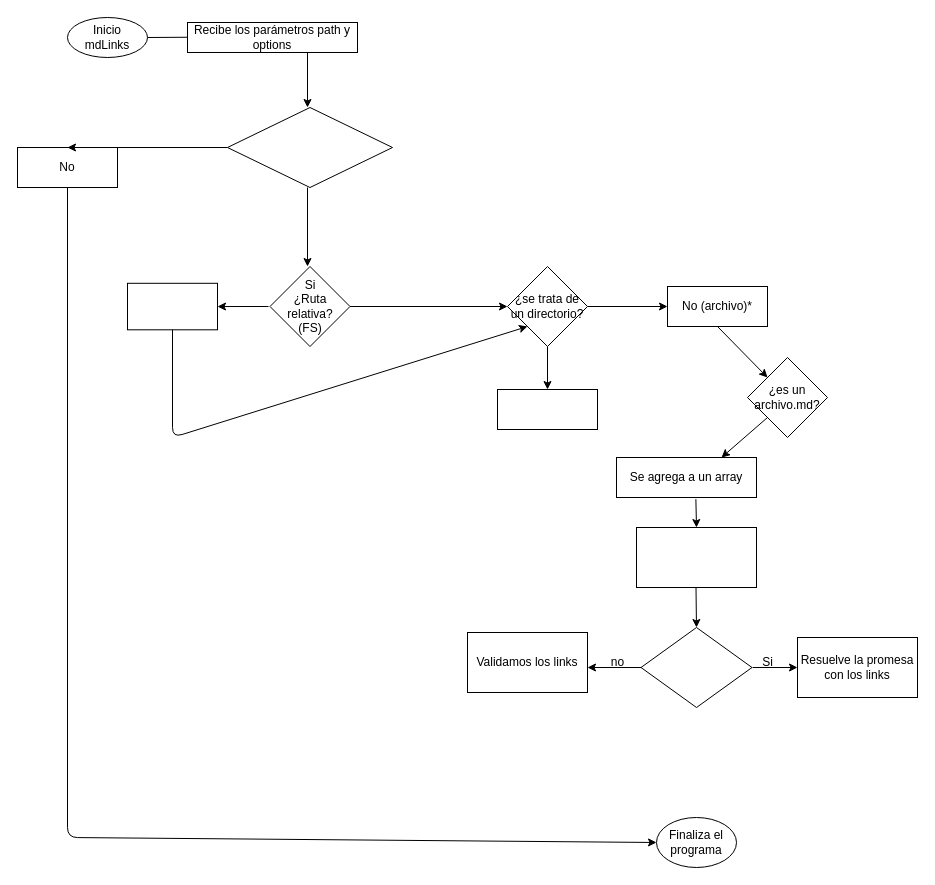
Some shapes in this 935 by 885 pixel diagram are drawn without their labels. The shapes that lost their labels are listed below. From the top down, each one's centre as x and y in pixels, then its label:
(309,147): Se trata de una ruta fija existente
(172,306): Transformar a absoluta
(547,409): Si: leer cada elemento
(696,557): Recorrer los archivos.md y obtener los links
(696,667): la persona usuaria quiere validar?
